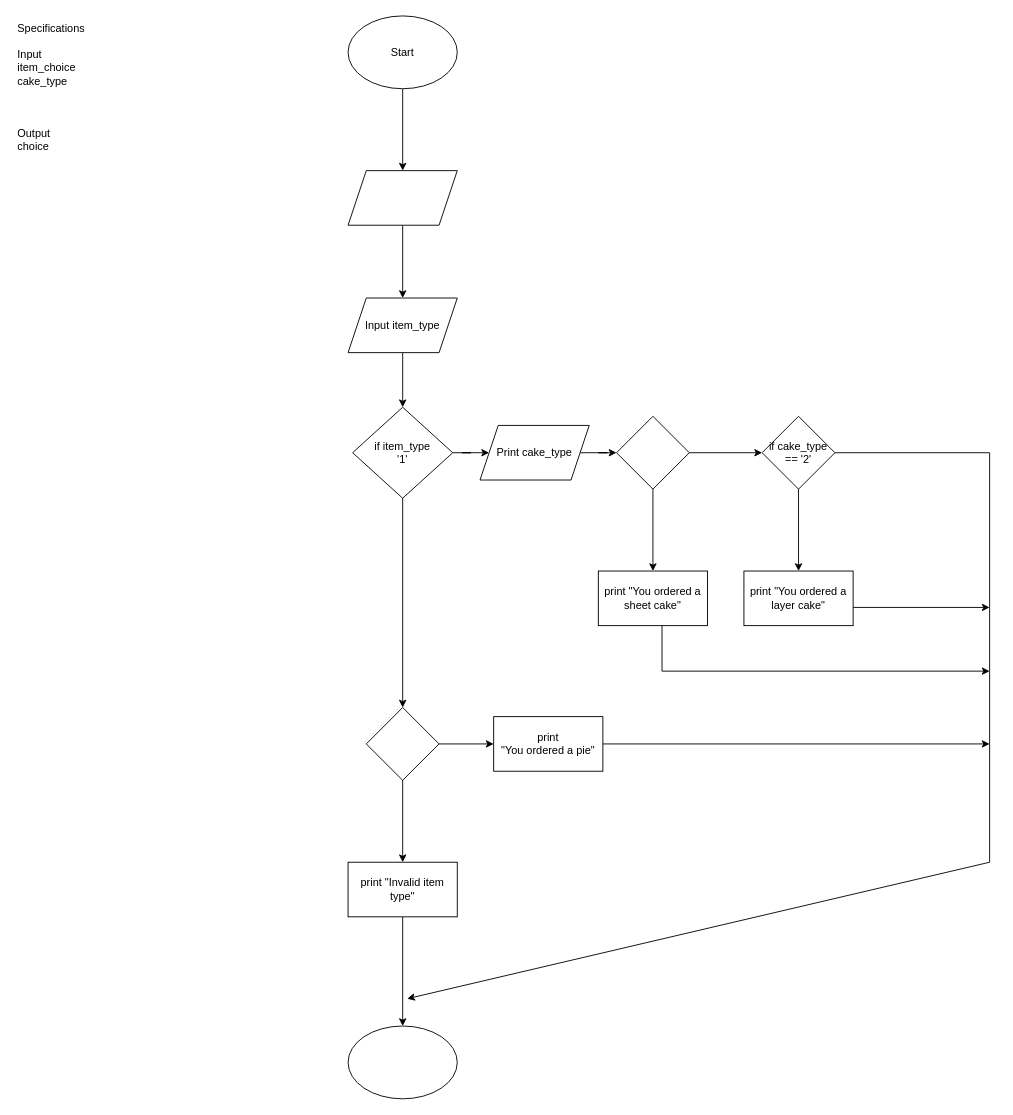
The diagram is 1013 pixels wide and 1115 high, and some of its shapes have lost their labels. The shapes that lost their labels are listed below. From the top down, each one's box as (x1, y1, x2, y2) in pixels, then its label:
(347, 170, 457, 225): Enter item_type
(616, 415, 689, 489): if cake_type == '1'
(365, 707, 439, 780): if item_type == '2'
(347, 1025, 457, 1099): End
